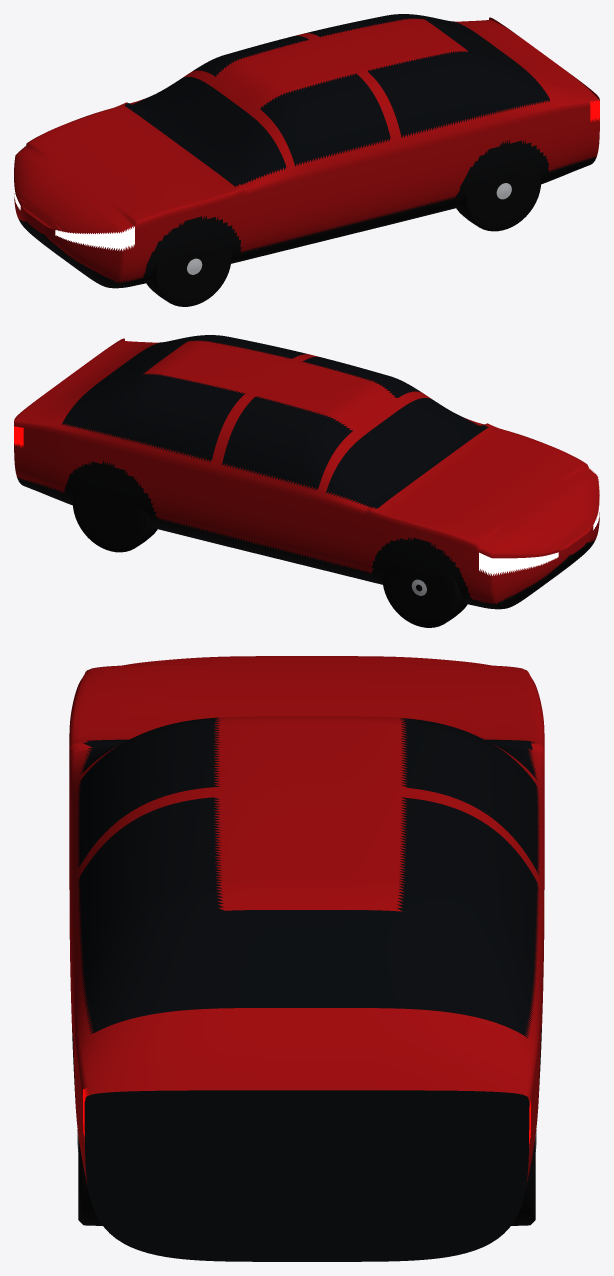
3 renders of one model, top to bottom at view 1: azimuth 30°, elevation 25°; view 2: azimuth 150°, elevation 25°; view 3: azimuth 270°, elevation 25°, orthographic. The views are drawn at different scales.
Parts seen in each view (by area): view 1: body_car_paint, body_car_glass, body_car_trim, wheel_rr_tyre, wheel_fr_tyre, body_headlight; view 2: body_car_paint, body_car_glass, body_car_trim, wheel_rl_tyre, wheel_fl_tyre, body_headlight; view 3: body_car_paint, body_car_glass, body_car_trim, wheel_rl_tyre, wheel_rr_tyre.
Part boxes in pixels (x1,y1,x2,y2): body_car_paint: (14, 17, 599, 283); body_car_glass: (125, 14, 549, 186); body_car_trim: (19, 140, 596, 288); wheel_rr_tyre: (456, 165, 541, 231); wheel_fr_tyre: (146, 250, 231, 306); body_headlight: (14, 183, 134, 250); body_car_paint: (14, 338, 599, 604); body_car_glass: (61, 335, 488, 508); body_car_trim: (17, 460, 595, 609); wheel_rl_tyre: (72, 486, 157, 552); wheel_fl_tyre: (382, 571, 467, 627); body_headlight: (479, 468, 599, 575); body_car_paint: (69, 656, 544, 1187); body_car_glass: (77, 717, 539, 1037); body_car_trim: (72, 1028, 541, 1261); wheel_rl_tyre: (511, 1137, 535, 1225); wheel_rr_tyre: (78, 1137, 102, 1225).
Size of the model in its own units: 4.6 by 1.39 by 1.86.
